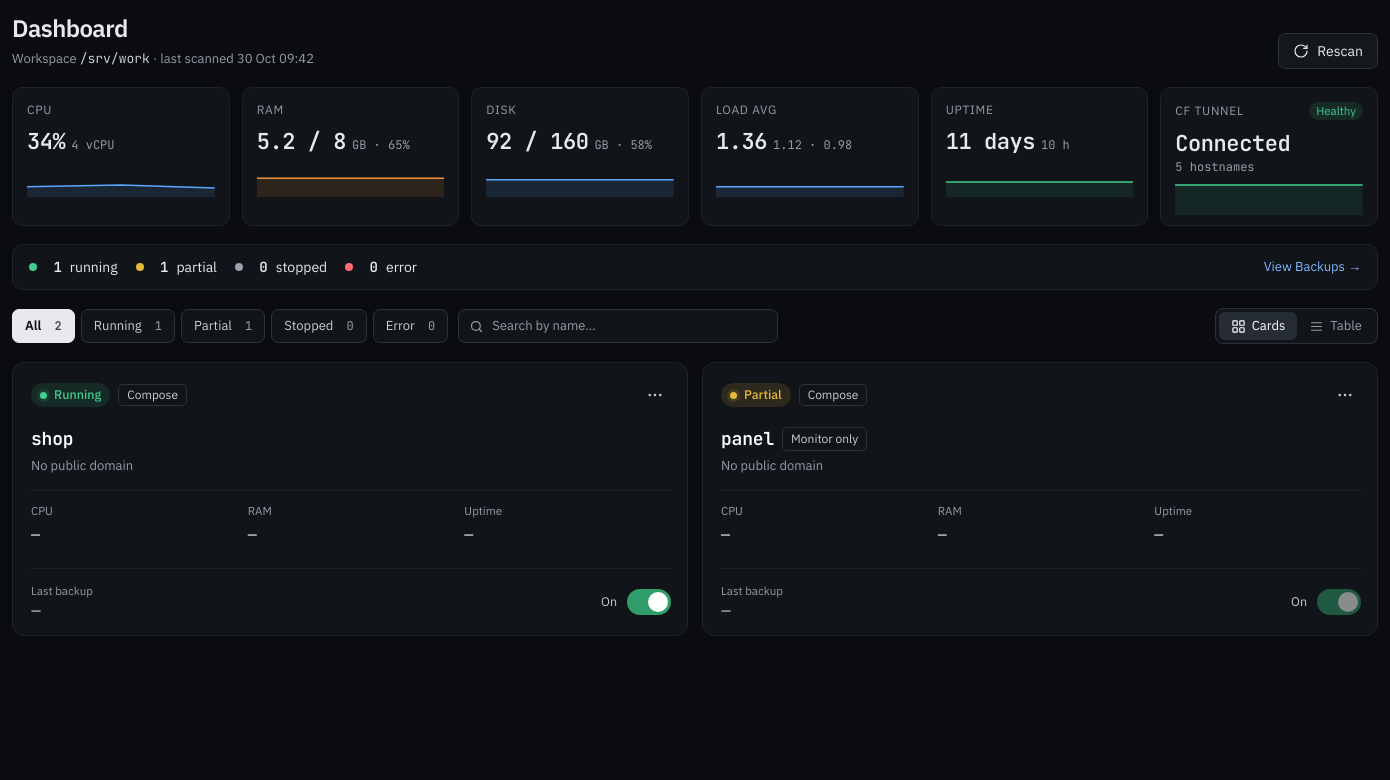
DashboardPage › filters and views in the URL › writes a chip to the URL, and the search replacing the entry
Step 1. Click the button "Running 1" → (128, 326), box [81,309,175,343]
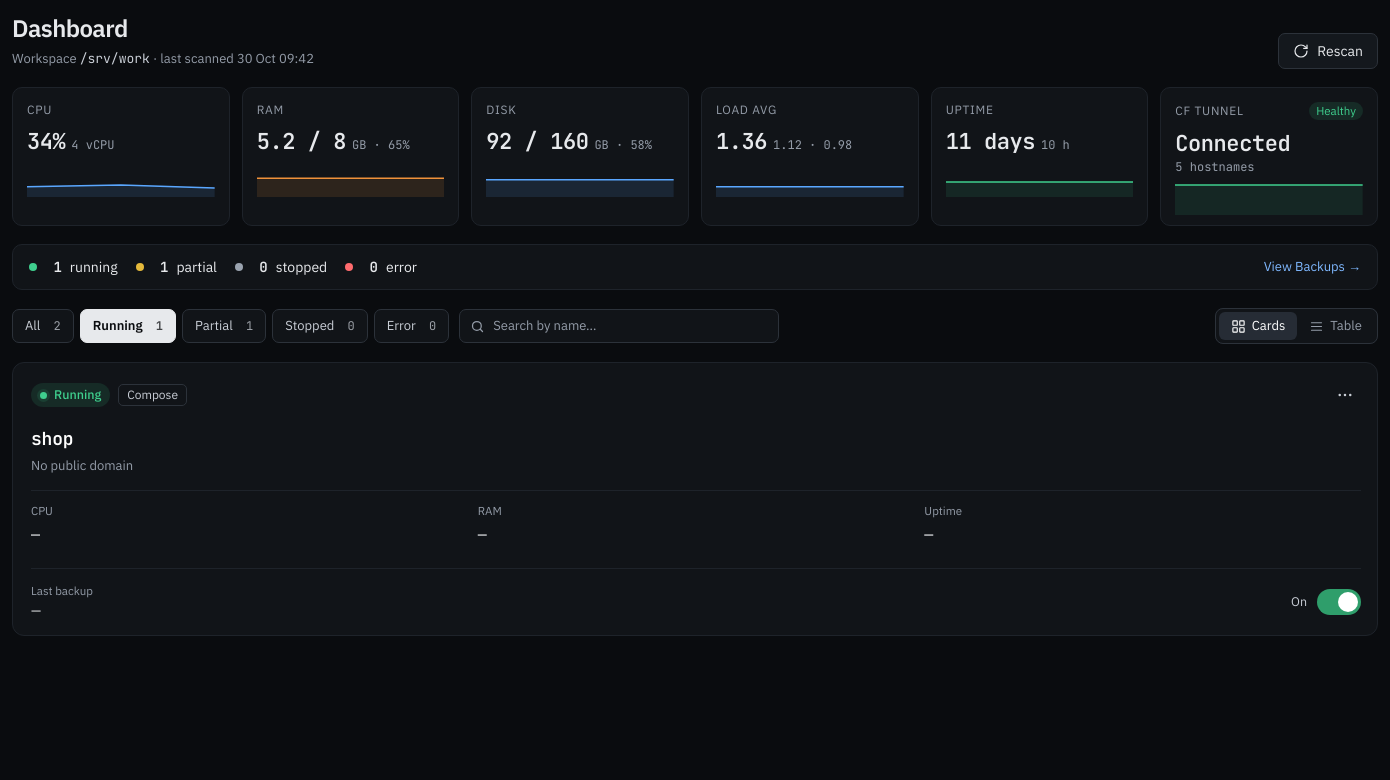
Result: the link "panel" is gone
Step 2. Type "sh" into the search field named "Search projects by name" → (631, 326), box [493,317,768,336]
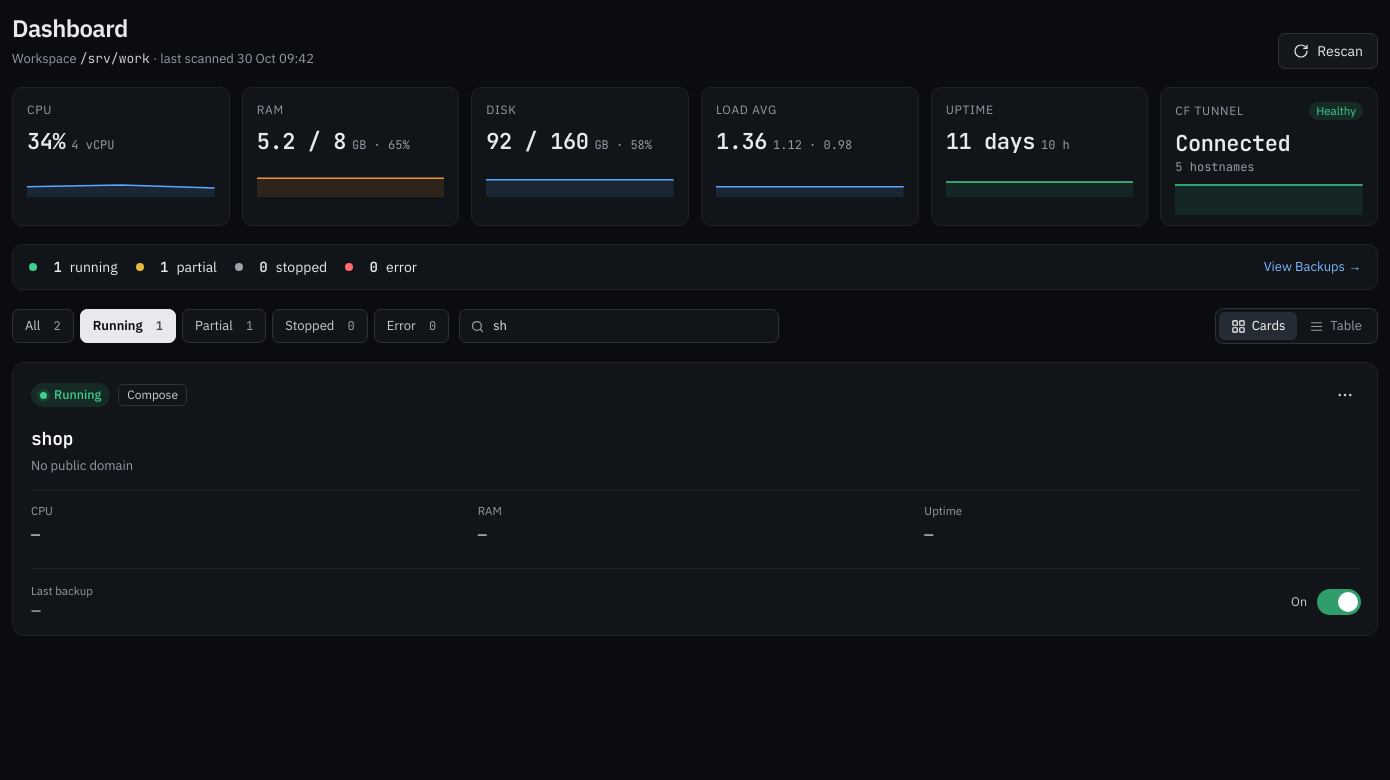
Expected: the element "shop" is shown, [12,362,1378,636]
Step 3. Click the button "All 2" → (43, 326), box [12,309,74,343]
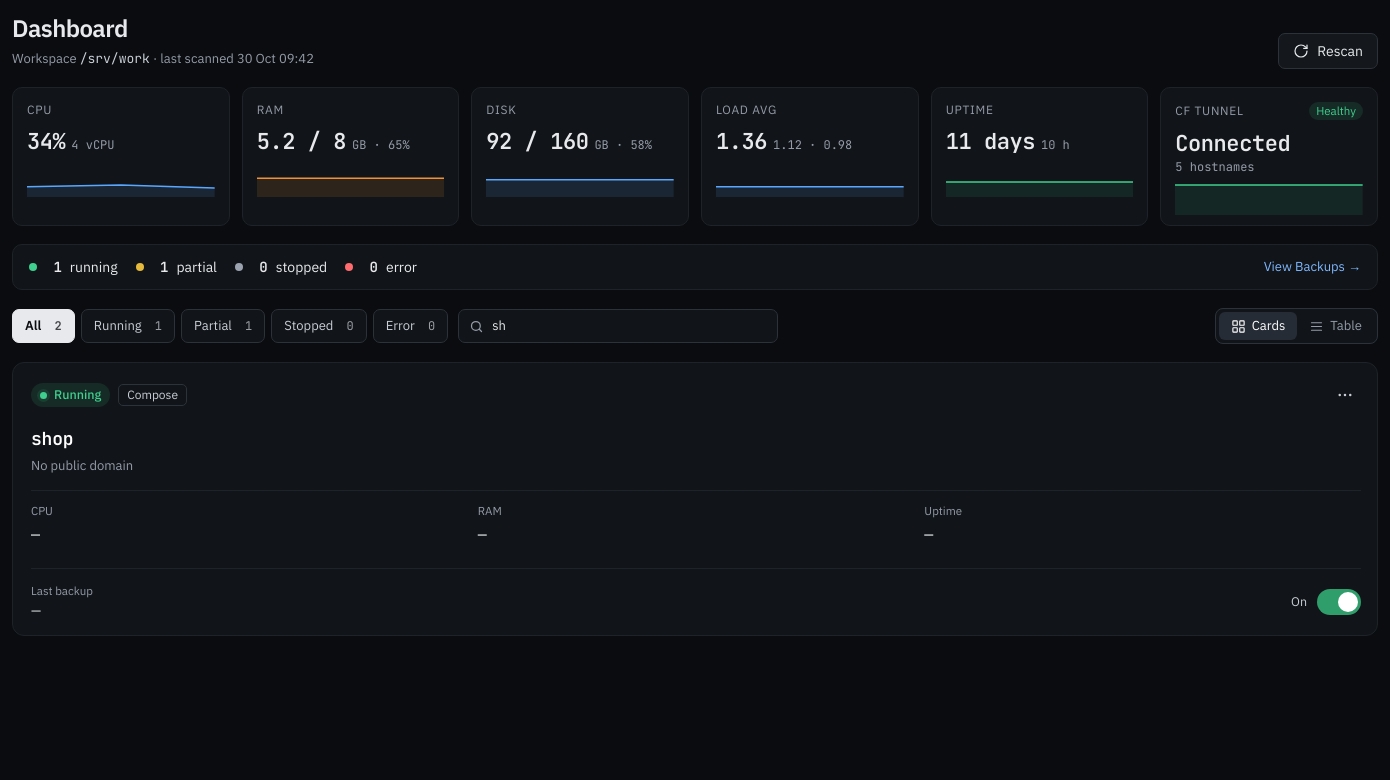
Step 4. Clear the search field named "Search projects by name" → (630, 326), box [492,317,767,336]
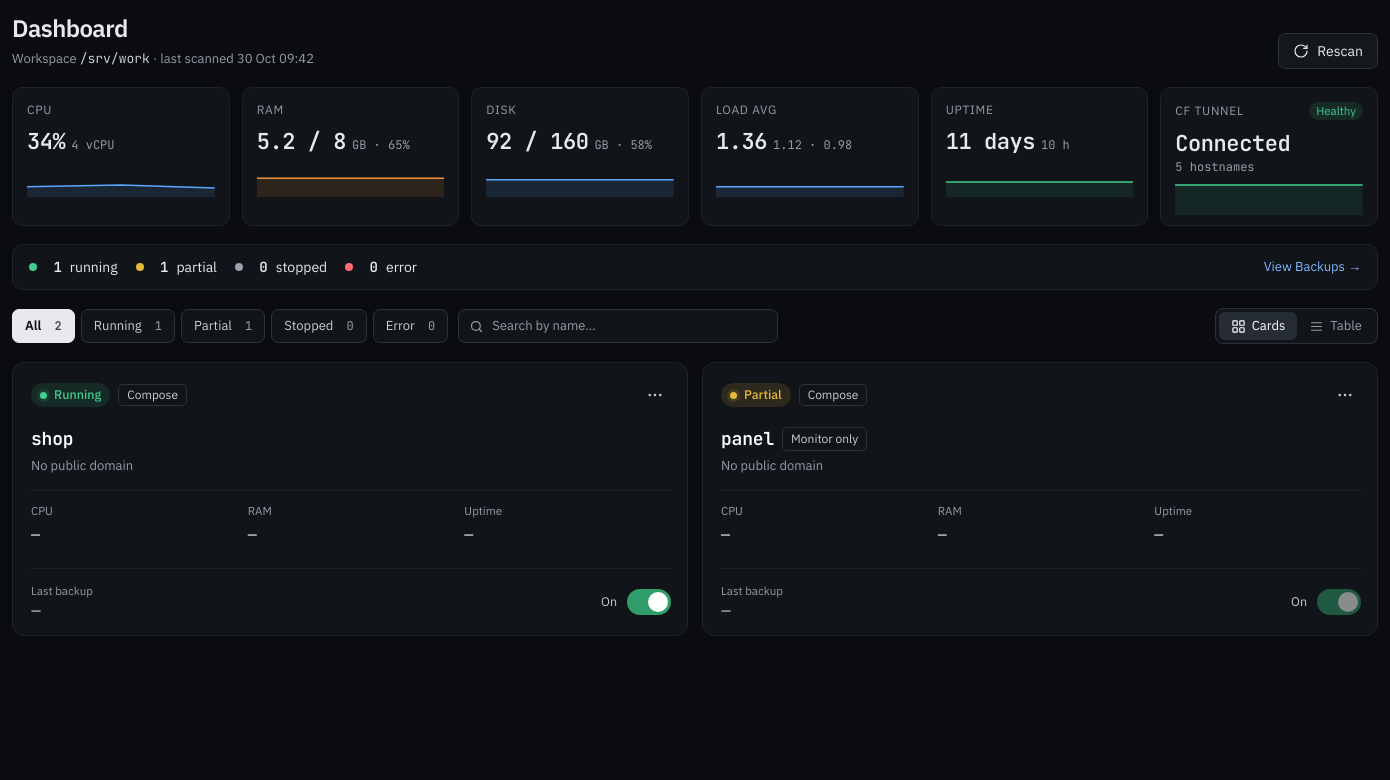
Result: the element "panel" is shown at [702,362,1378,636]
